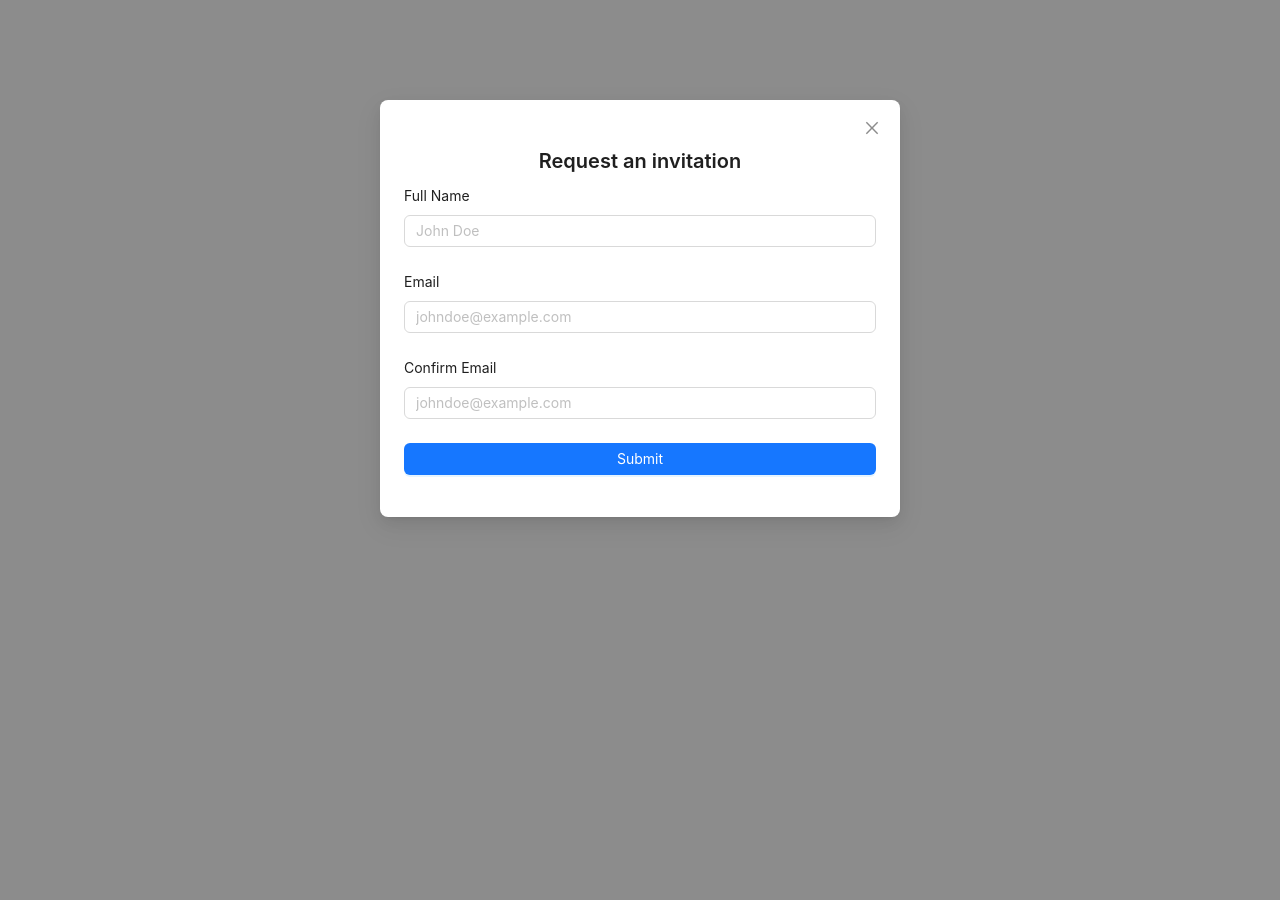
Test: RequestInviteModal Component › shows error when email is not in email format
Type "john@com" into the field labelled "Email". click: (628, 317)
box: [416, 306, 840, 328]
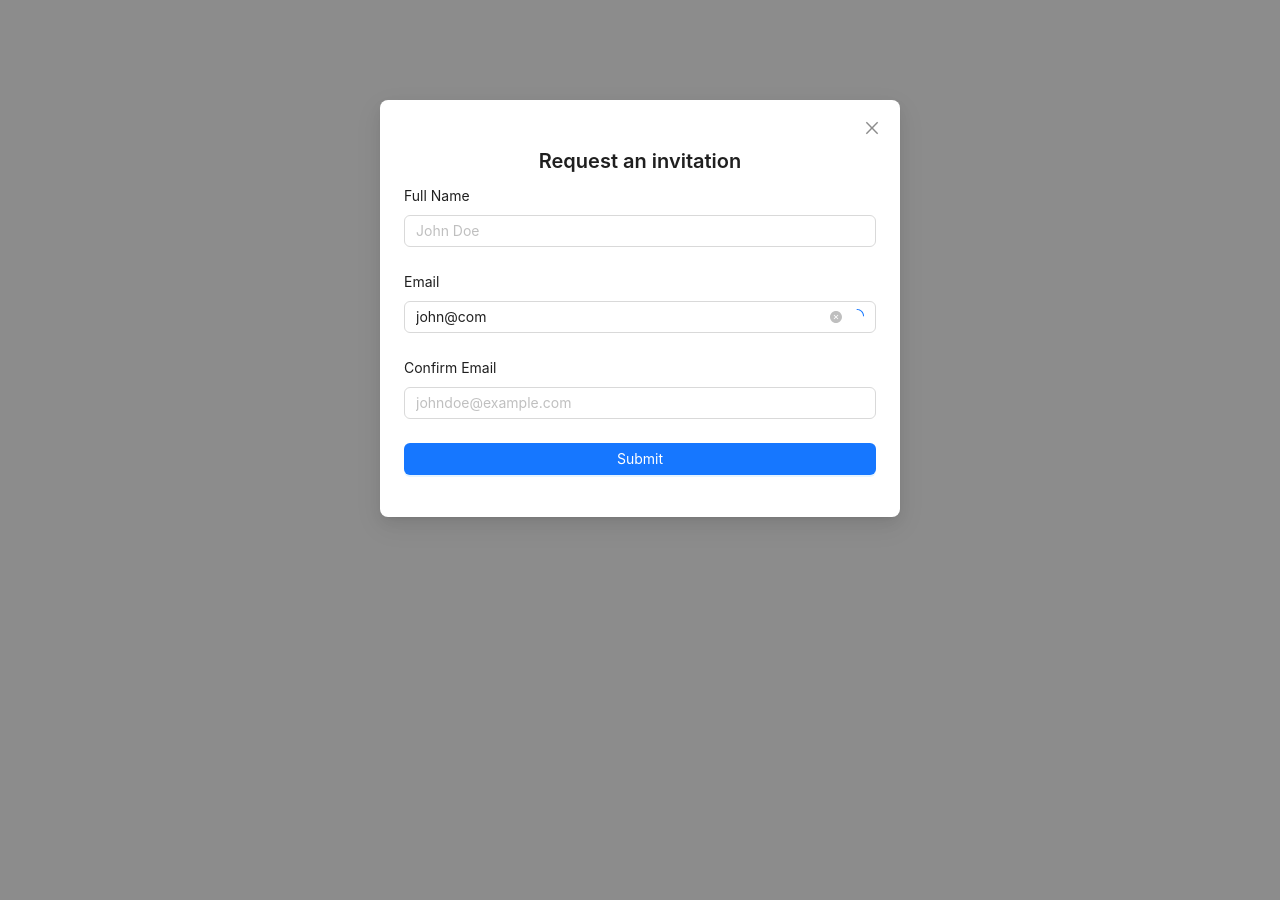
Click the button "Submit". click: (640, 459)
box: [404, 443, 876, 475]
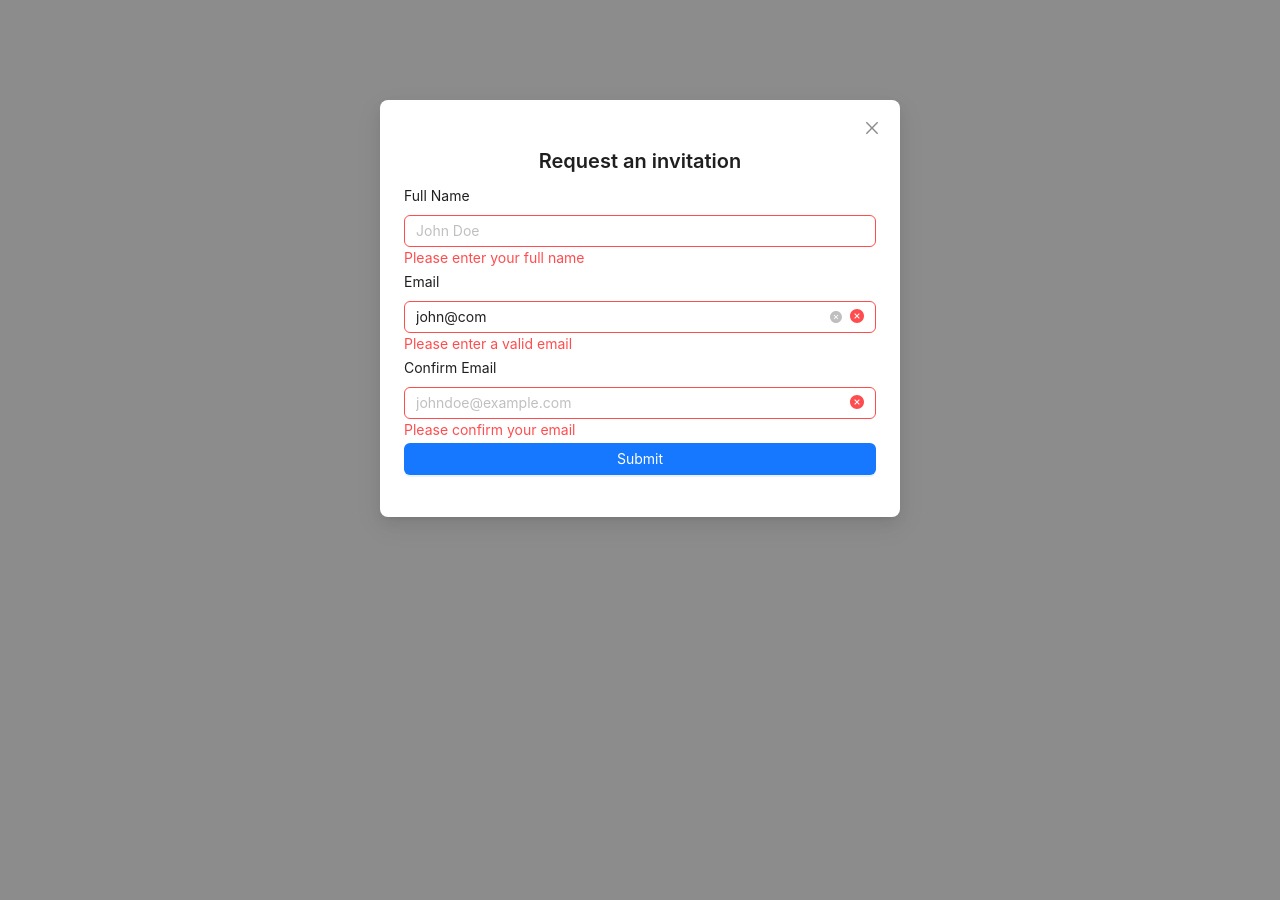
Check: the text "Please enter a valid email" is shown, box [404, 335, 572, 352]
